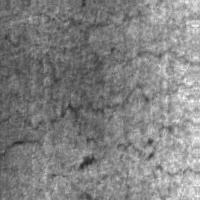crazing: (5, 31, 185, 148), (44, 149, 183, 199), (0, 98, 49, 165)
